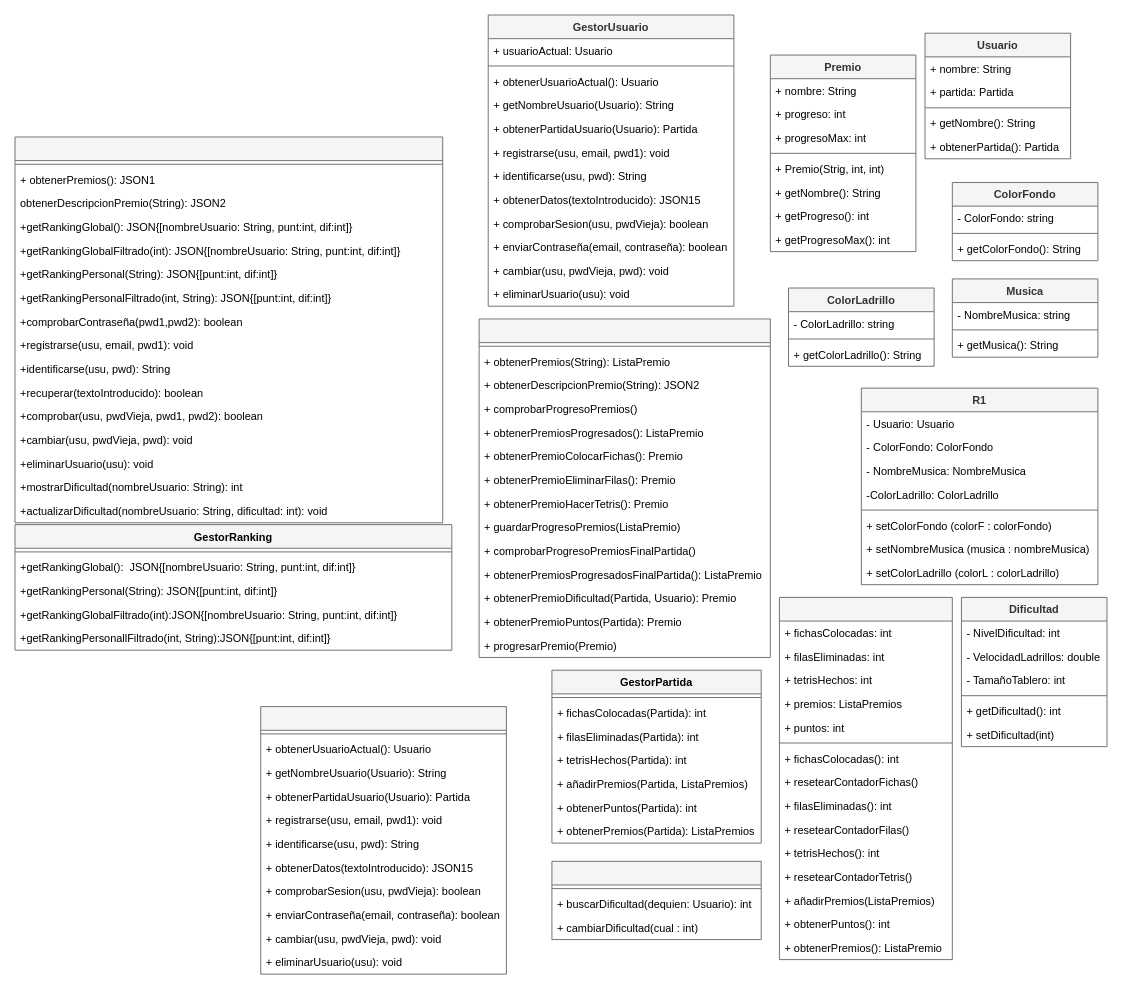
Image size: 1122x989. Some labels were removed from this diagram. The shapes that lost their labels are listed below. From the top down, each one's box as (x1, y1, x2, y2) in pixels, then its label:
(14, 136, 443, 523): Gestor
(478, 318, 770, 657): GestorPremios
(779, 597, 952, 960): Partida
(260, 706, 506, 974): SGBD
(551, 860, 761, 940): GestorDificultad
